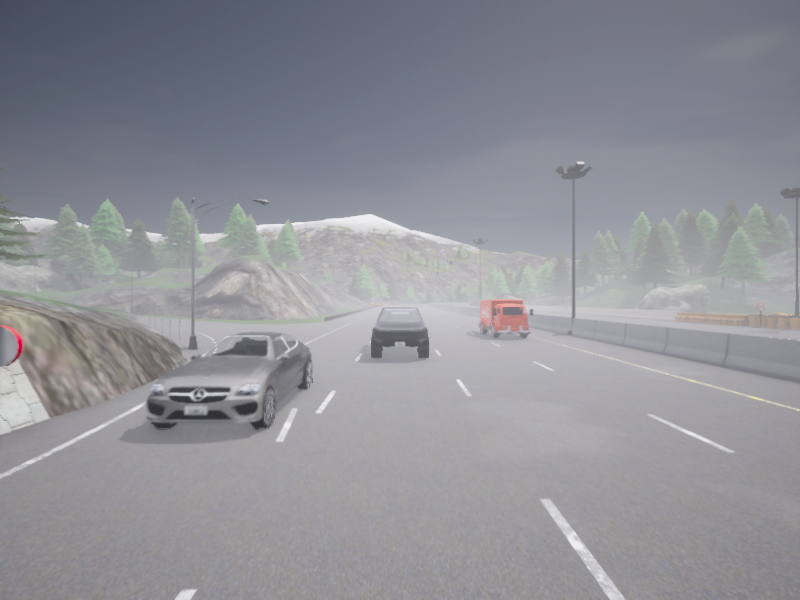vehicle: (146, 332, 312, 428), (371, 307, 429, 358), (478, 300, 532, 337)
